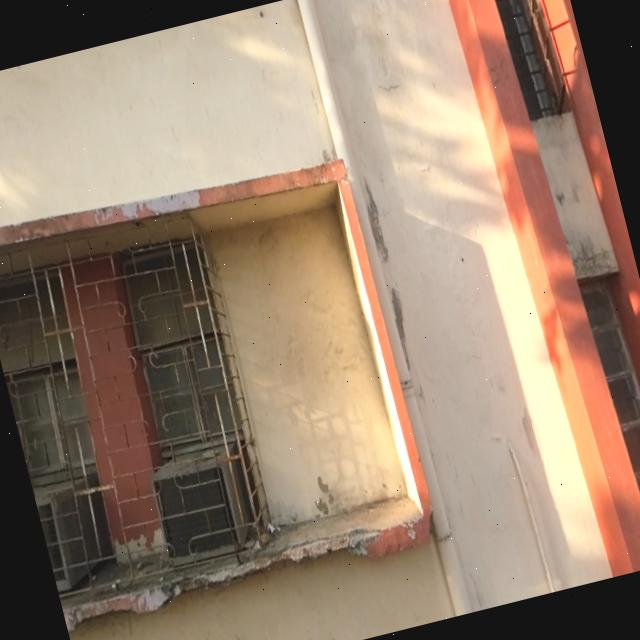spalling: (59, 498, 421, 631)
